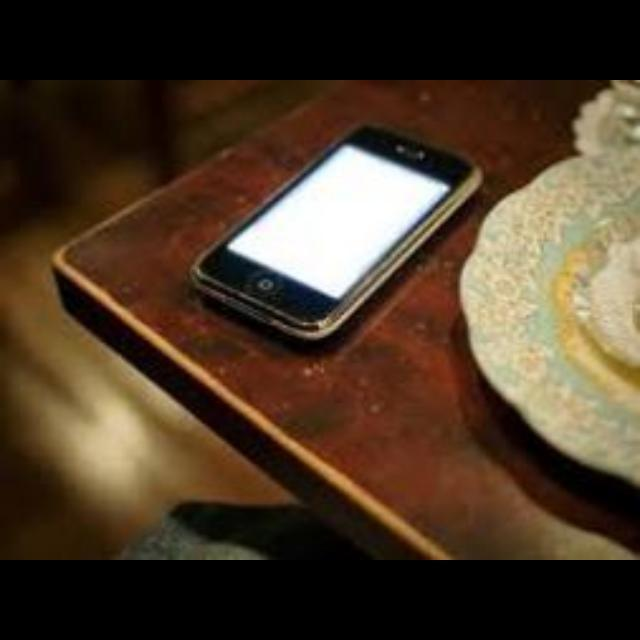PhoneUse: (177, 123, 508, 335)
